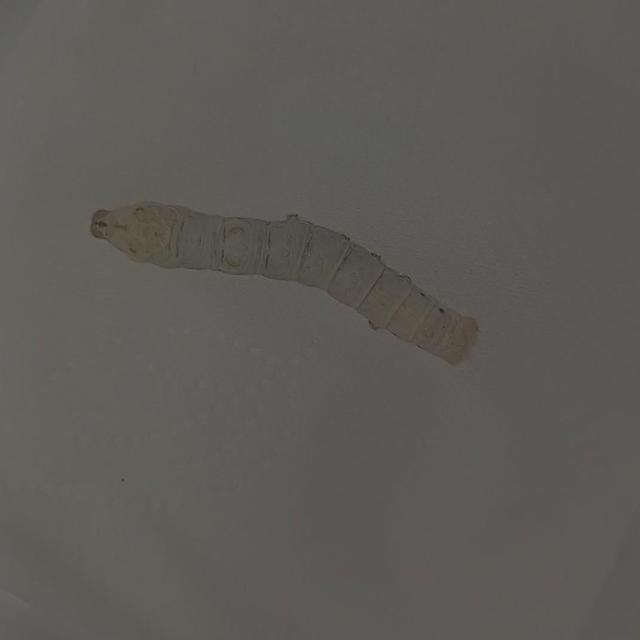Healthy: (78, 150, 519, 413)
